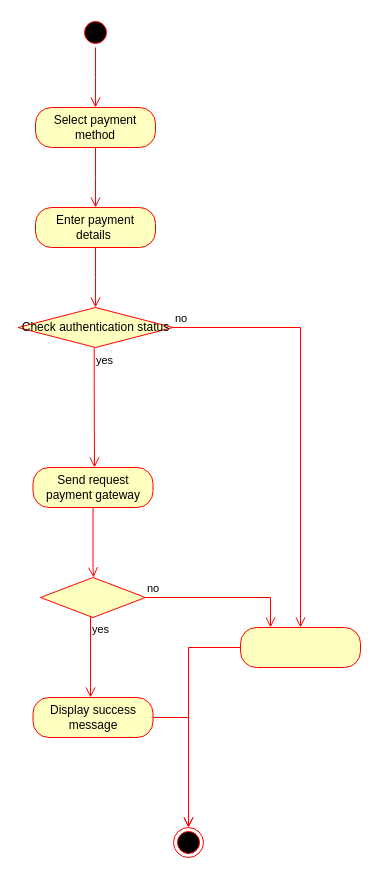
The diagram is 378 pixels wide and 875 high, and some of its shapes have lost their labels. Here are the shapes that lost their labels. From the top down, the box of each, then its label:
(40, 576, 146, 618): Does payment success?
(240, 626, 360, 668): Display error message
